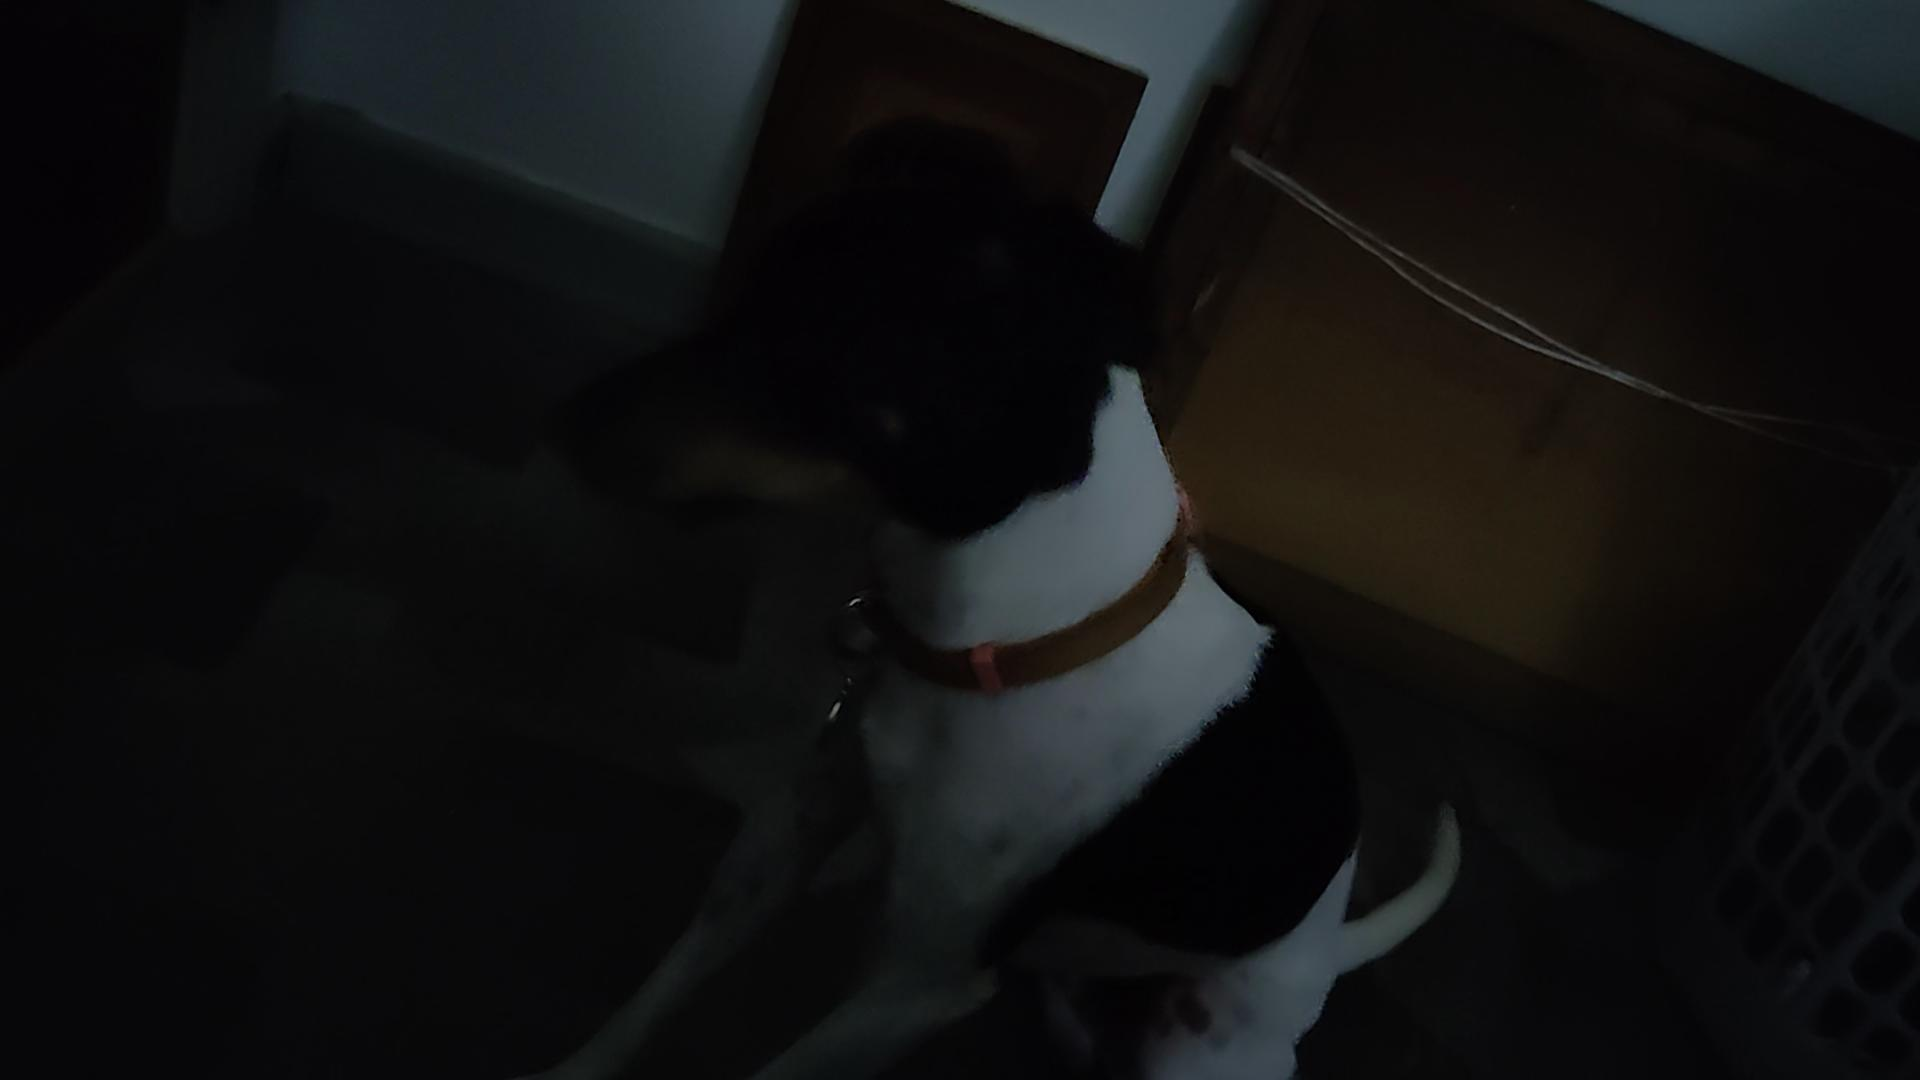Dog: (501, 102, 1464, 1079)
